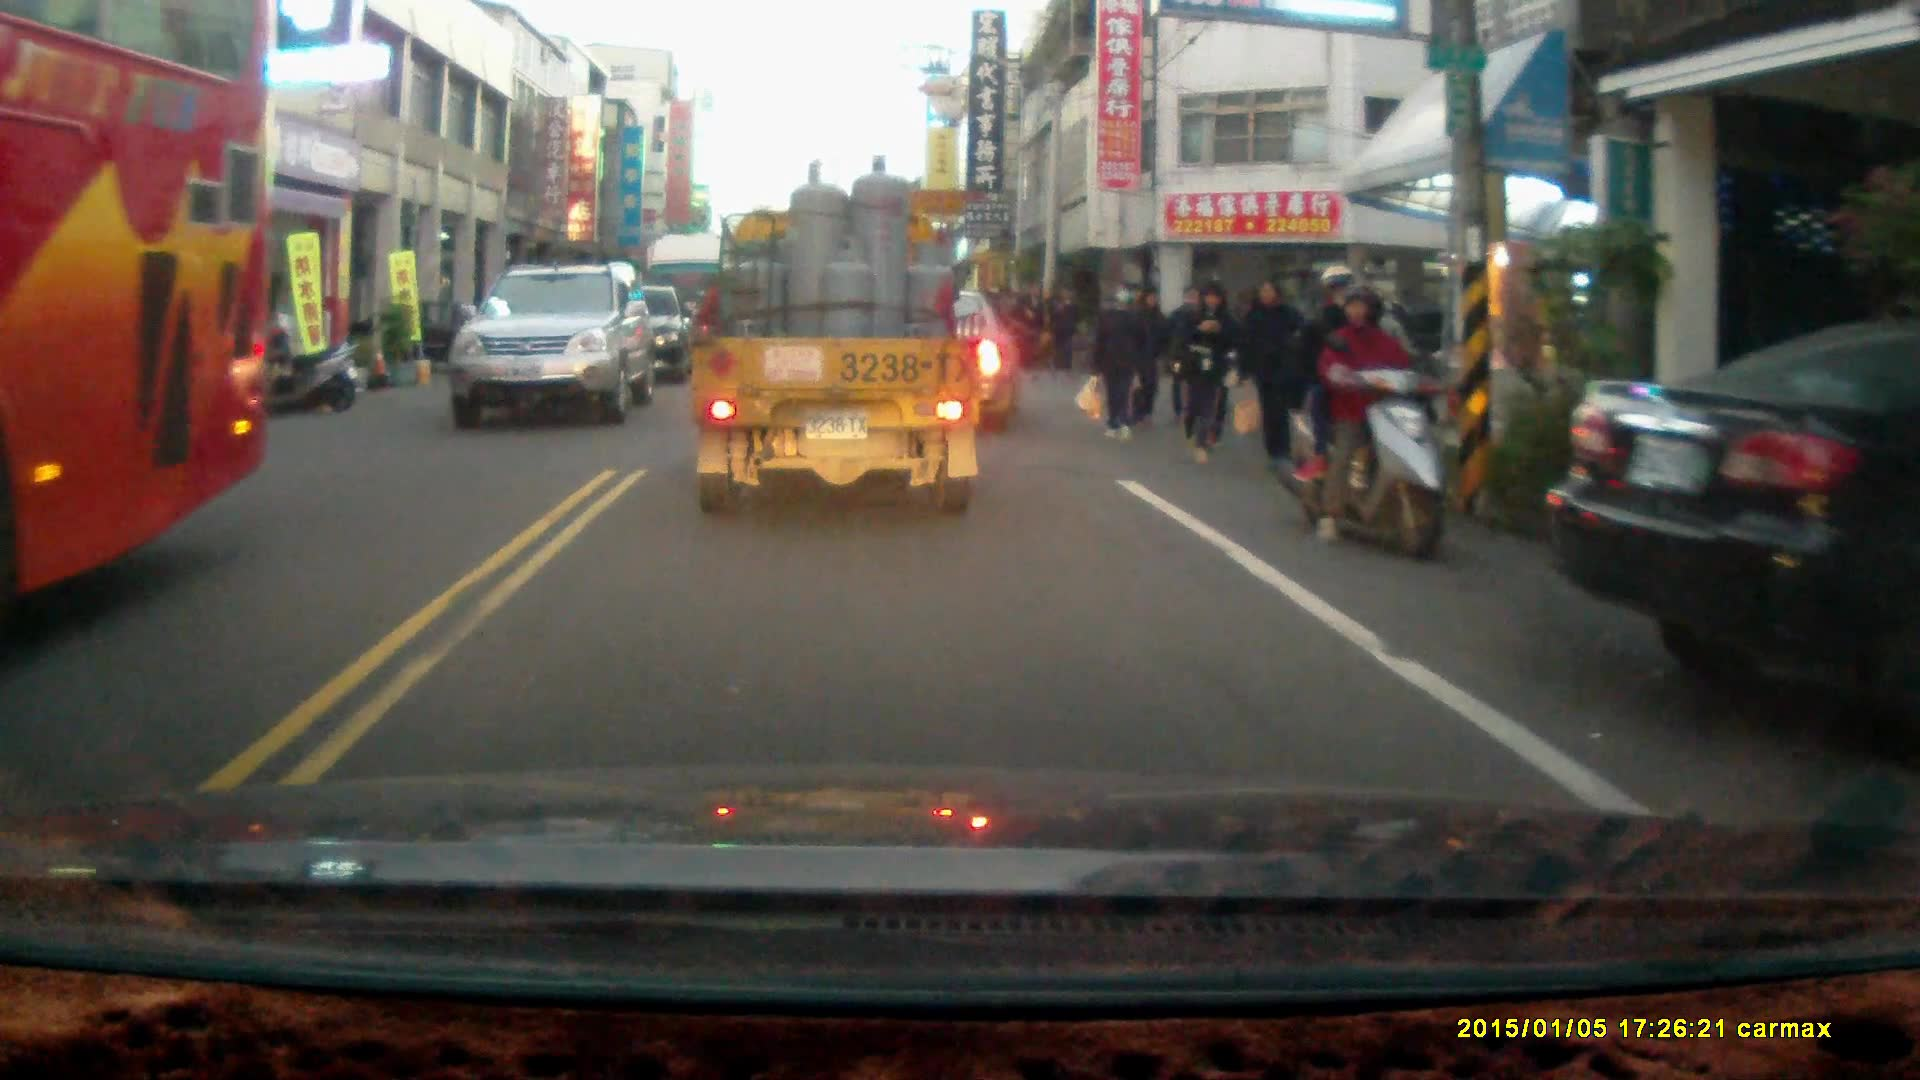pedestrian: (1232, 276, 1307, 466), (1178, 278, 1233, 464), (1091, 279, 1144, 441), (1124, 286, 1169, 429), (1045, 279, 1080, 377), (1017, 279, 1052, 375)
rider: (1272, 258, 1449, 554)
vehicle: (1, 7, 274, 648), (1560, 324, 1920, 740), (689, 154, 987, 522), (797, 284, 1032, 435), (452, 262, 658, 427)
